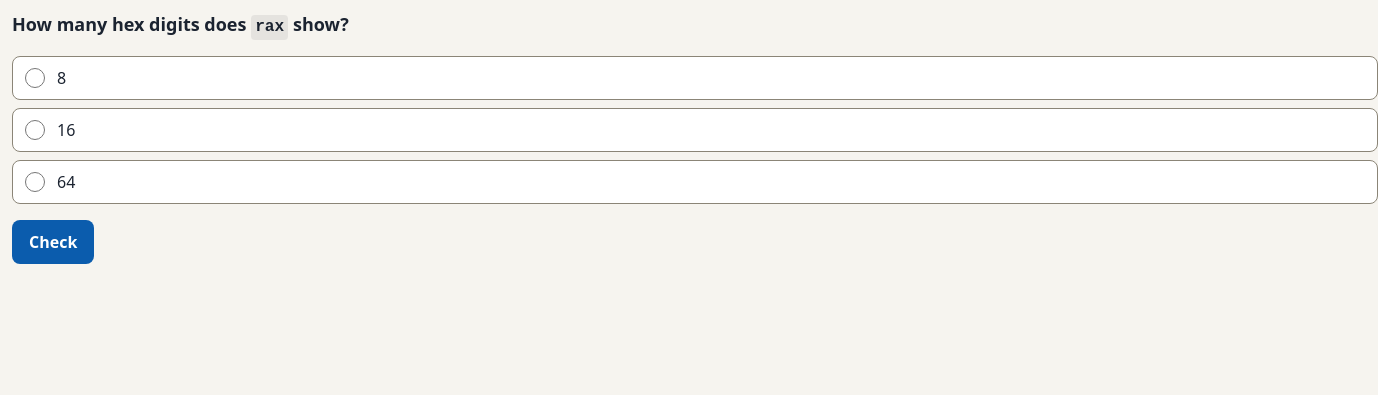
Scenario: a choice question › gives the chosen option its own feedback, and lets the student try again
Click the button "Check".
click(53, 242)  # box [12,220,94,264]
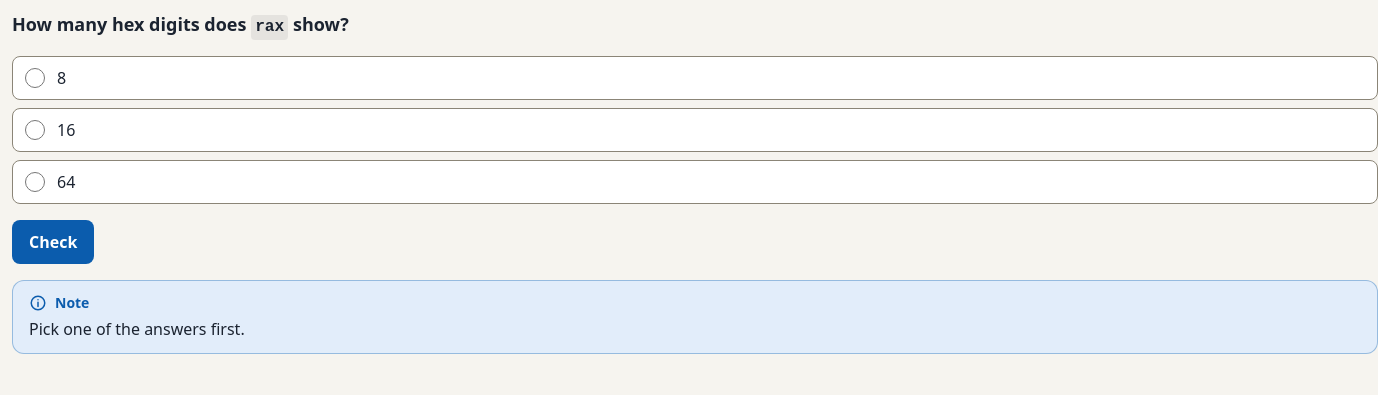
Expected: the text "Not yet" is not shown
Now the element showing "Note Pick one of the answers first." is shown, box [12,280,1377,354]
Click the radio button labelled "64".
click(35, 182)  # box [25,172,45,192]
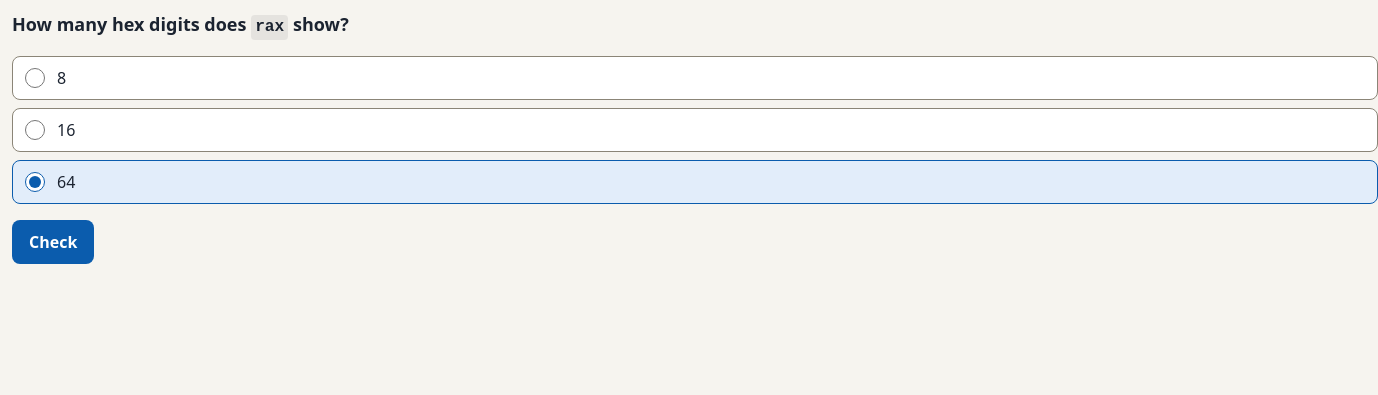
Click the button "Check".
click(53, 242)  # box [12,220,94,264]
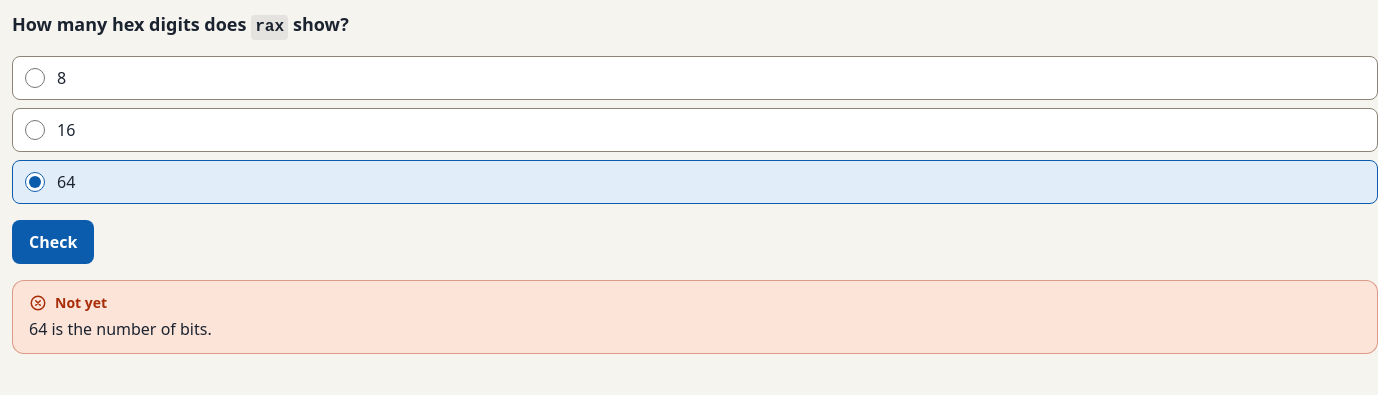
Expected: the text "Right: 64 ÷ 4 = 16." is not shown
Now the element showing "Not yet 64 is the number of bits." is shown, box [12,280,1377,354]
Click the radio button labelled "16".
click(35, 130)  # box [25,120,45,140]
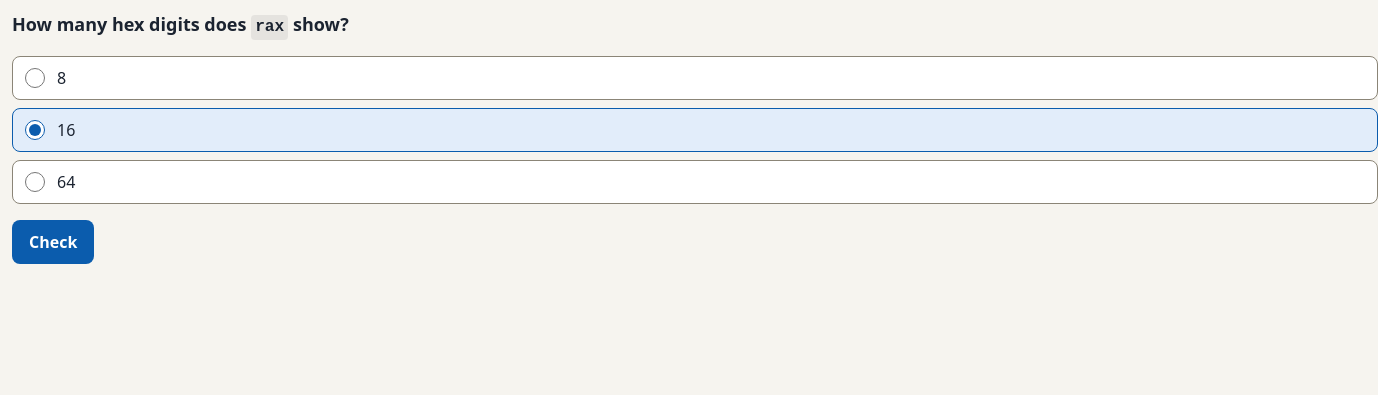
Click the button "Check".
click(53, 242)  # box [12,220,94,264]
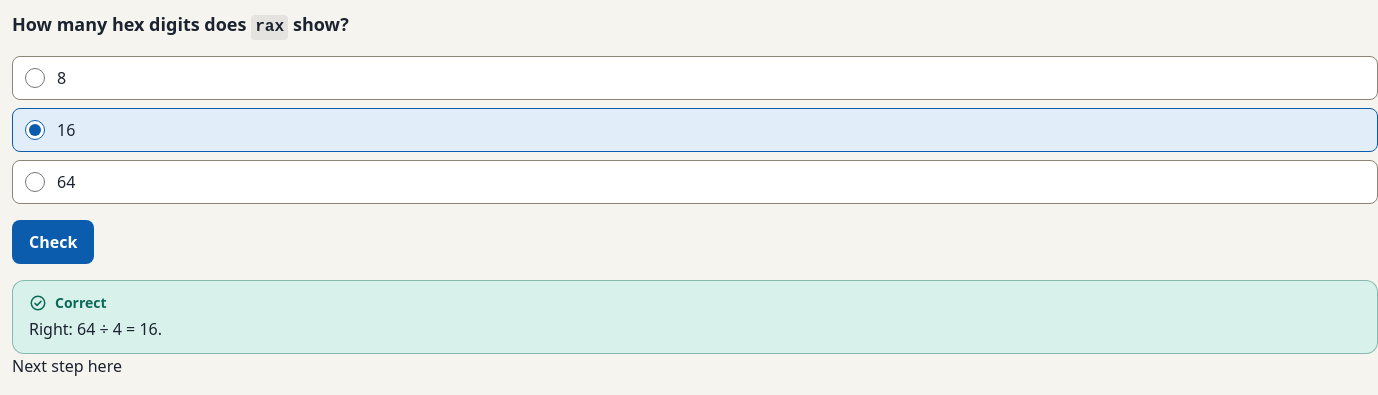
Now the element showing "Correct Right: 64 ÷ 4 = 16. Next step here" is shown, box [12,280,1377,378]
Now the text "Next step here" is shown, box [12,355,122,377]
